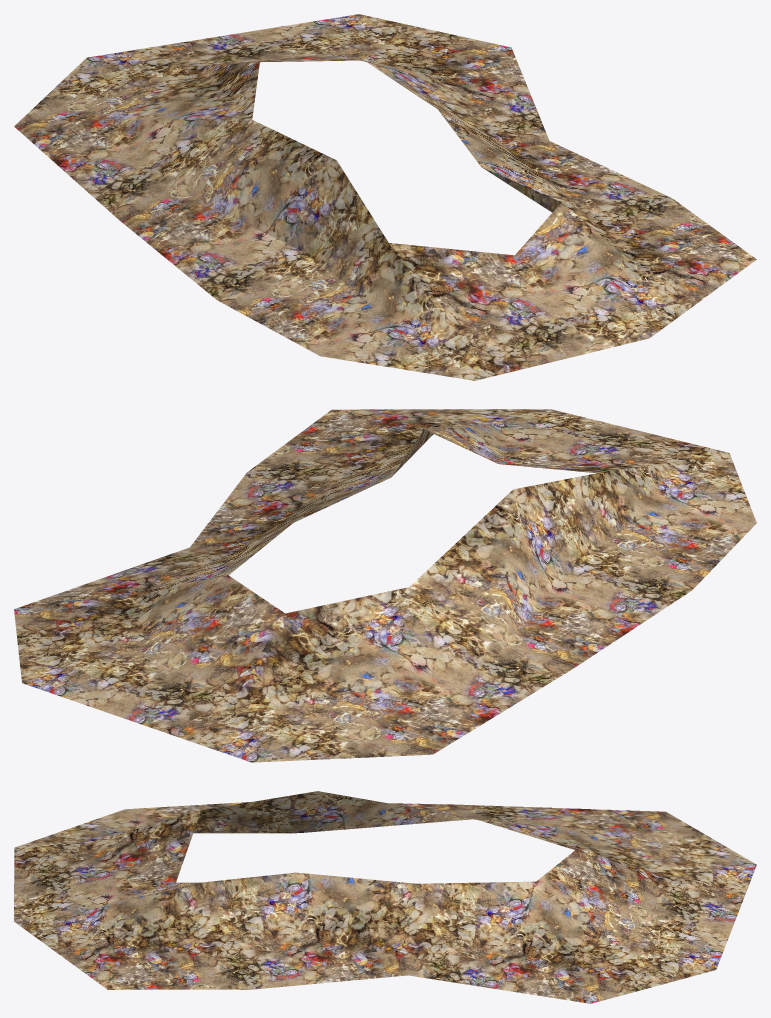
The model's file is BnL_Tune_Up_Trash_Pile_Cube_Dispenser_01.fbx.
3 renders of one model, top to bottom at view 1: azimuth 30°, elevation 25°; view 2: azimuth 150°, elevation 25°; view 3: azimuth 270°, elevation 25°, orthographic. The views are drawn at different scales.
Parts seen in each view (by area): view 1: BnL_Tune_Up_Trash_Pile_Cube_Dispenser_01; view 2: BnL_Tune_Up_Trash_Pile_Cube_Dispenser_01; view 3: BnL_Tune_Up_Trash_Pile_Cube_Dispenser_01.
Boxes of the visible parts, x1=… form: BnL_Tune_Up_Trash_Pile_Cube_Dispenser_01: x1=14, y1=14, x2=756, y2=380; BnL_Tune_Up_Trash_Pile_Cube_Dispenser_01: x1=14, y1=409, x2=756, y2=762; BnL_Tune_Up_Trash_Pile_Cube_Dispenser_01: x1=14, y1=791, x2=756, y2=1003.
Bounding box in the file's own units: 14.17 × 2.35 × 21.92.
Materials: 1 (1 with a texture image).
